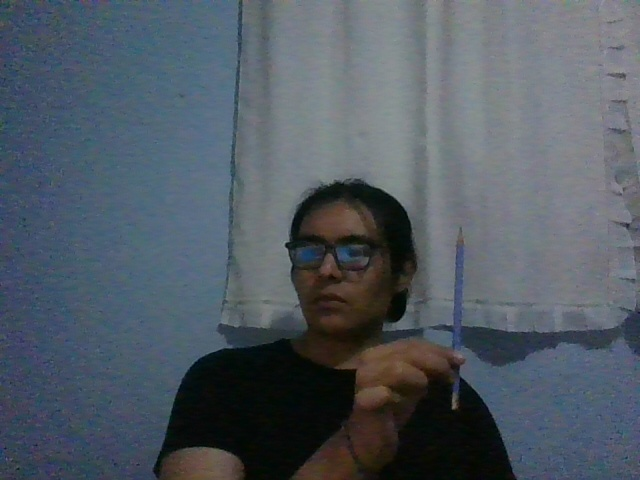lapiz: (450, 226, 466, 410)
